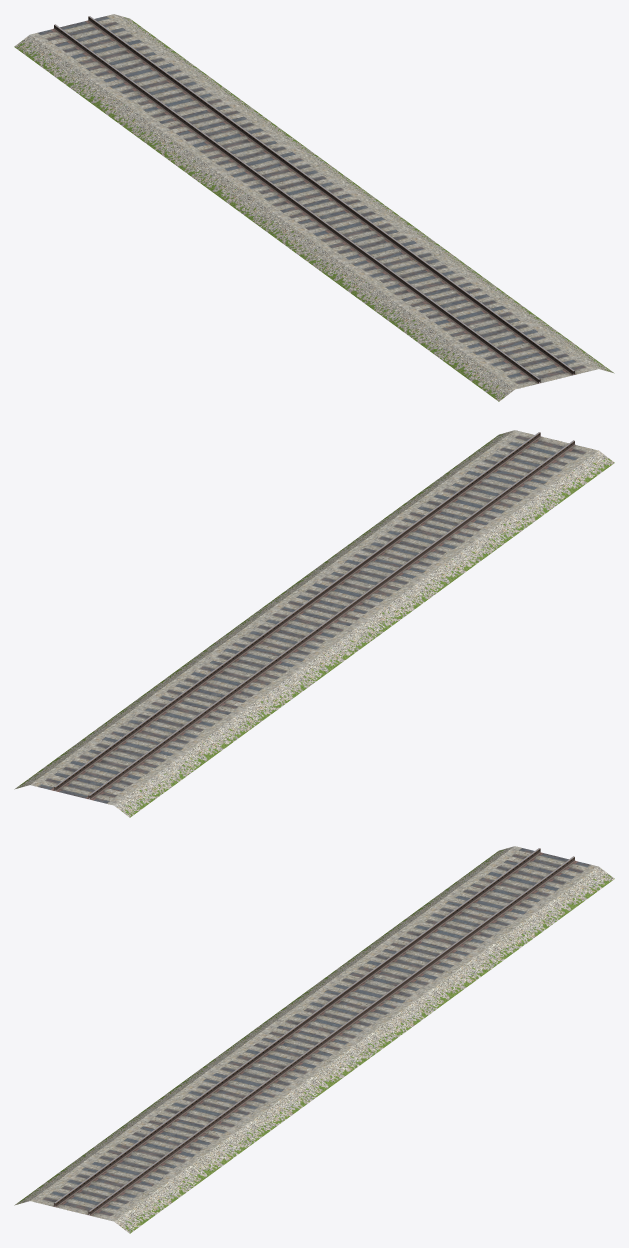
File: Tr_FStraight.fbx
3 views of the same model, one above another, from view 1: azimuth 30°, elevation 25°; view 2: azimuth 150°, elevation 25°; view 3: azimuth 330°, elevation 25° (orthographic).
Visible parts, largest first — view 1: U3DMesh; view 2: U3DMesh; view 3: U3DMesh.
Boxes of the visible parts, x1,y1,x2,y2 form: U3DMesh: (14,14,614,401); U3DMesh: (14,430,614,817); U3DMesh: (14,846,614,1233).
Size of the model in its own units: 4.42 by 0.4496 by 32.
